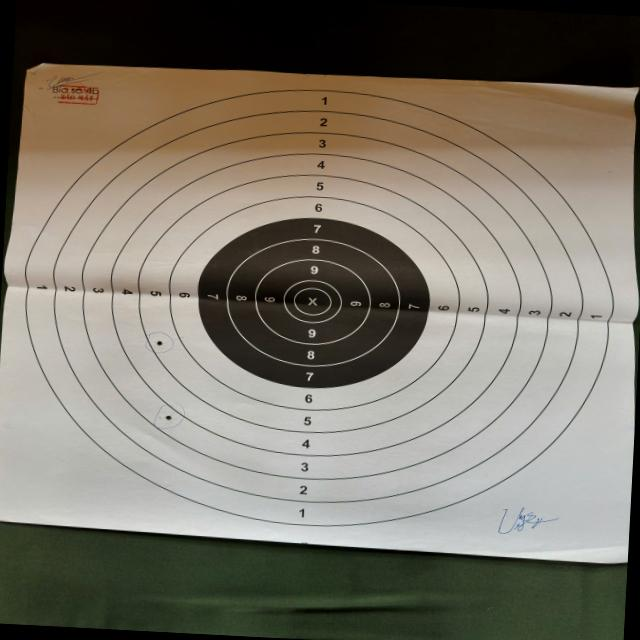bullet: (166, 414, 172, 419), (156, 340, 162, 345)
target: (0, 65, 637, 563)
